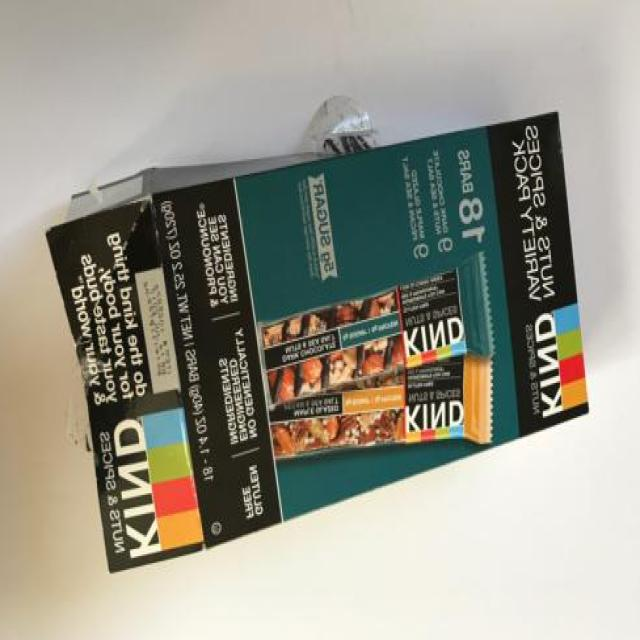kertas: (42, 112, 590, 574)
